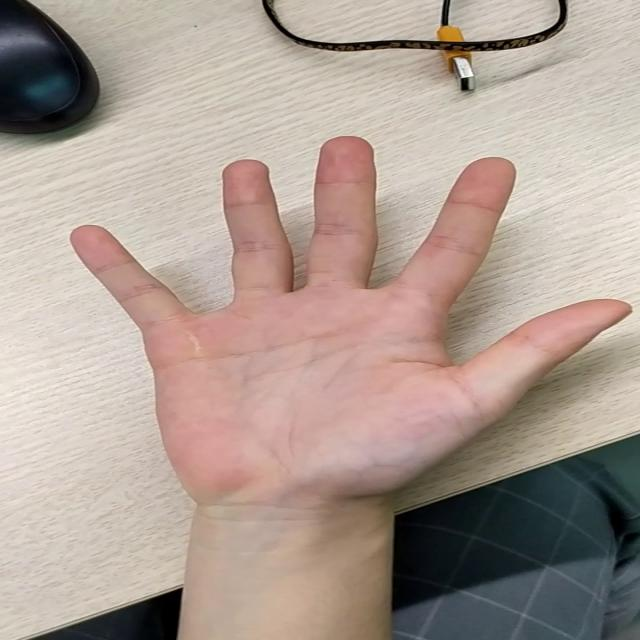hand: (66, 141, 618, 470)
